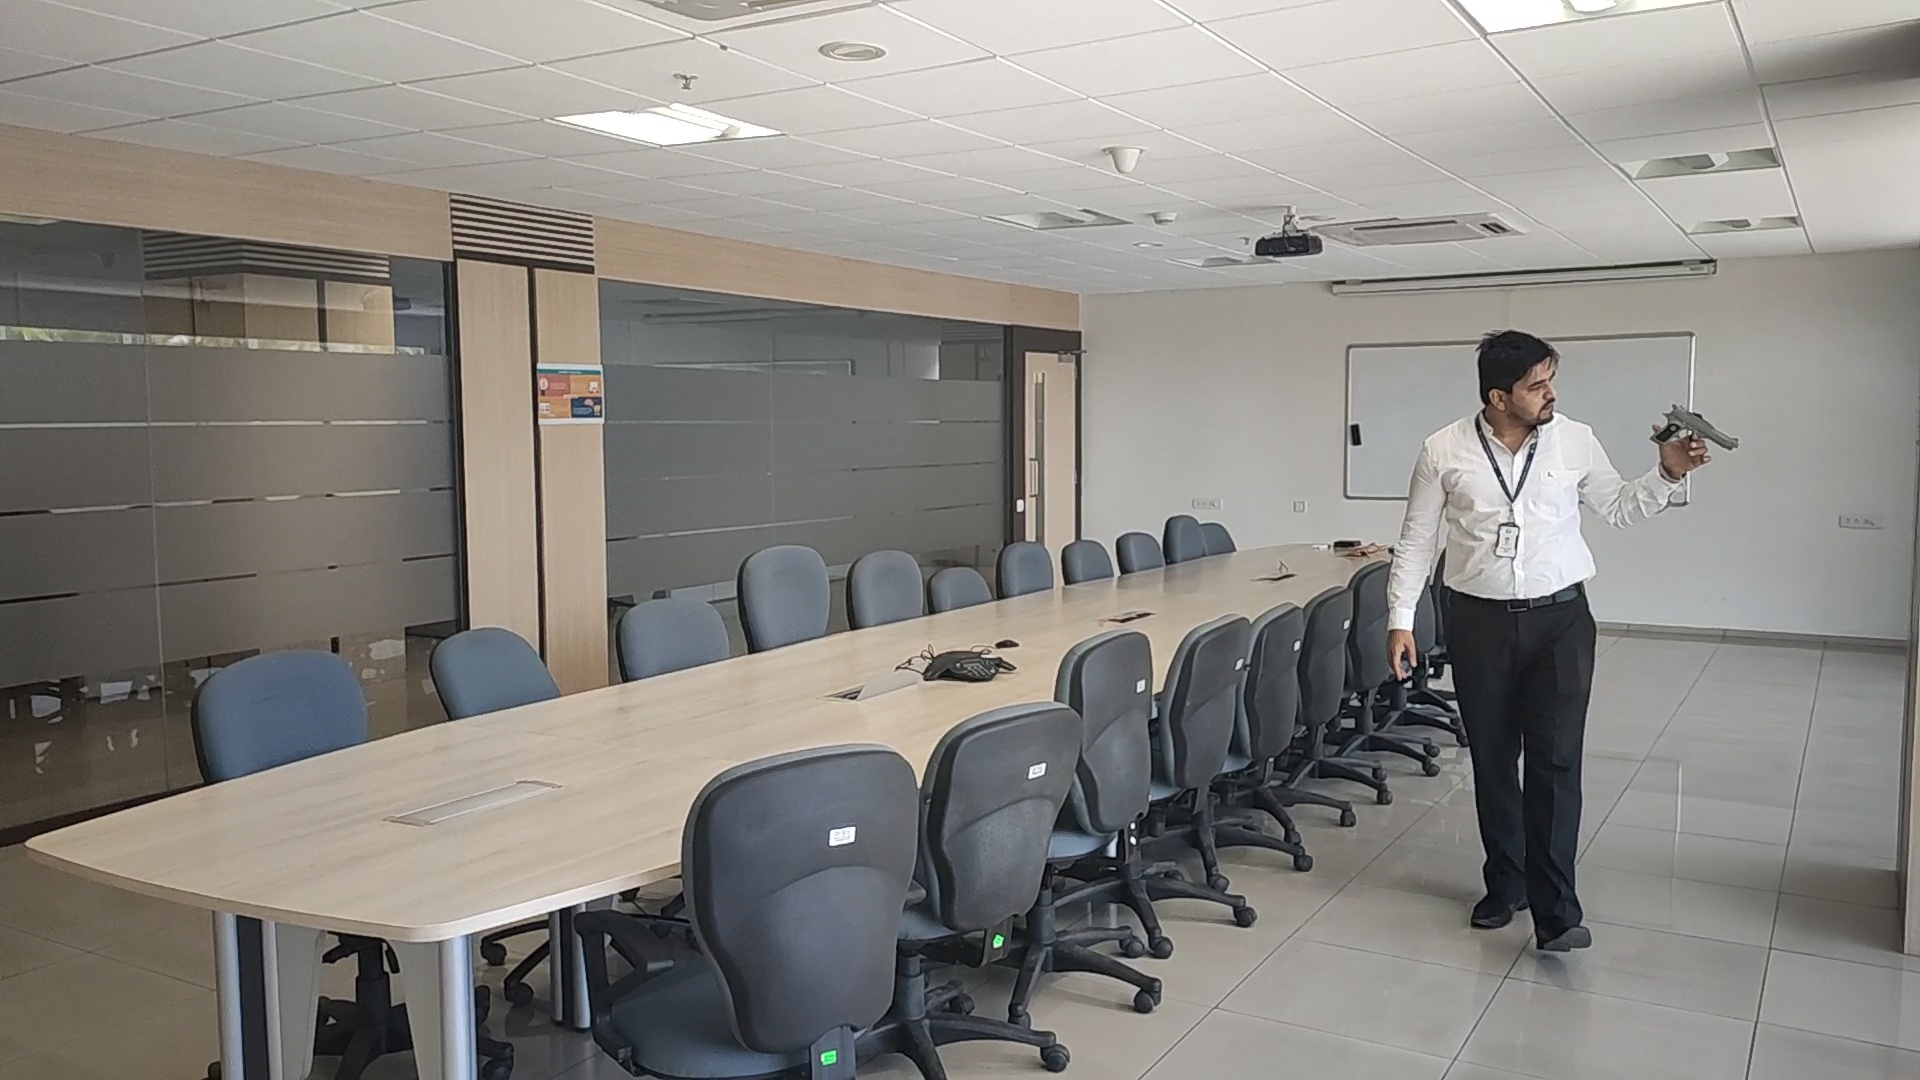gun: (1660, 392, 1731, 440)
